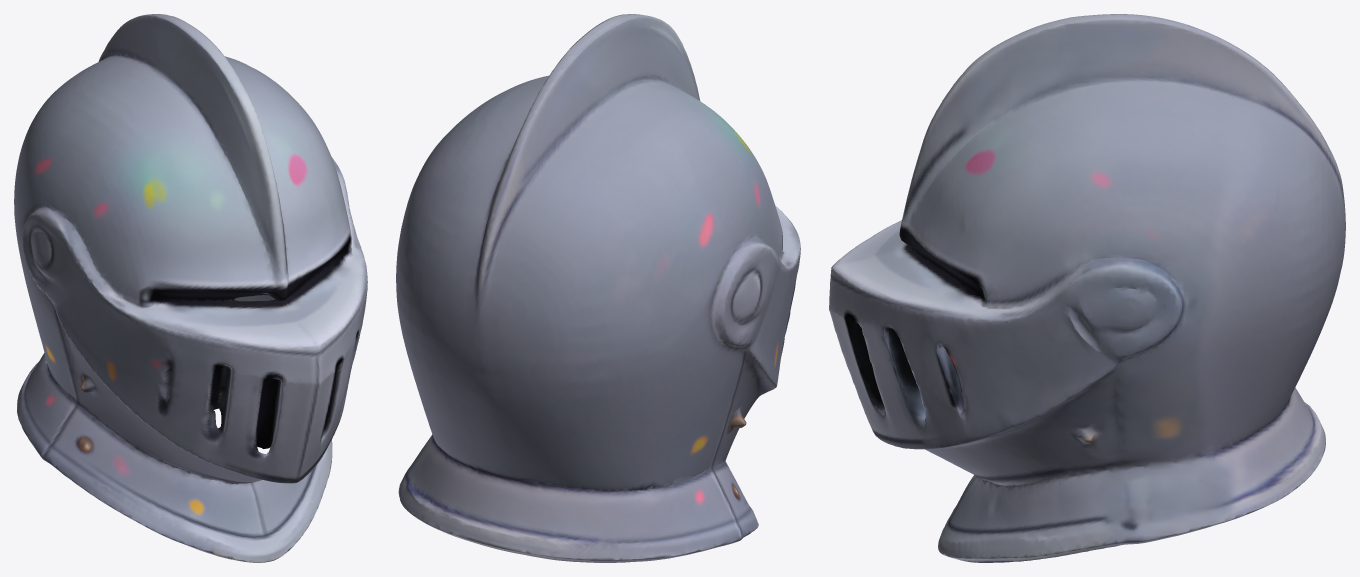
File: elmo-guerreiro.glb
The picture shows the model from 3 angles, left to right: view 1: azimuth 30°, elevation 25°; view 2: azimuth 150°, elevation 25°; view 3: azimuth 270°, elevation 25°; orthographic projection. The views are drawn at different scales.
Visible parts, largest first — view 1: tripo_node_87190bf8-aa2e-47ce-9bee-60b53f8eb02c.001; view 2: tripo_node_87190bf8-aa2e-47ce-9bee-60b53f8eb02c.001; view 3: tripo_node_87190bf8-aa2e-47ce-9bee-60b53f8eb02c.001.
Boxes of the visible parts, x1=… form: tripo_node_87190bf8-aa2e-47ce-9bee-60b53f8eb02c.001: x1=14, y1=14, x2=367, y2=562; tripo_node_87190bf8-aa2e-47ce-9bee-60b53f8eb02c.001: x1=396, y1=14, x2=800, y2=562; tripo_node_87190bf8-aa2e-47ce-9bee-60b53f8eb02c.001: x1=829, y1=14, x2=1345, y2=562.
Size of the model in its own units: 0.1228 by 0.1961 by 0.1716.
1 material, 1 textured.
